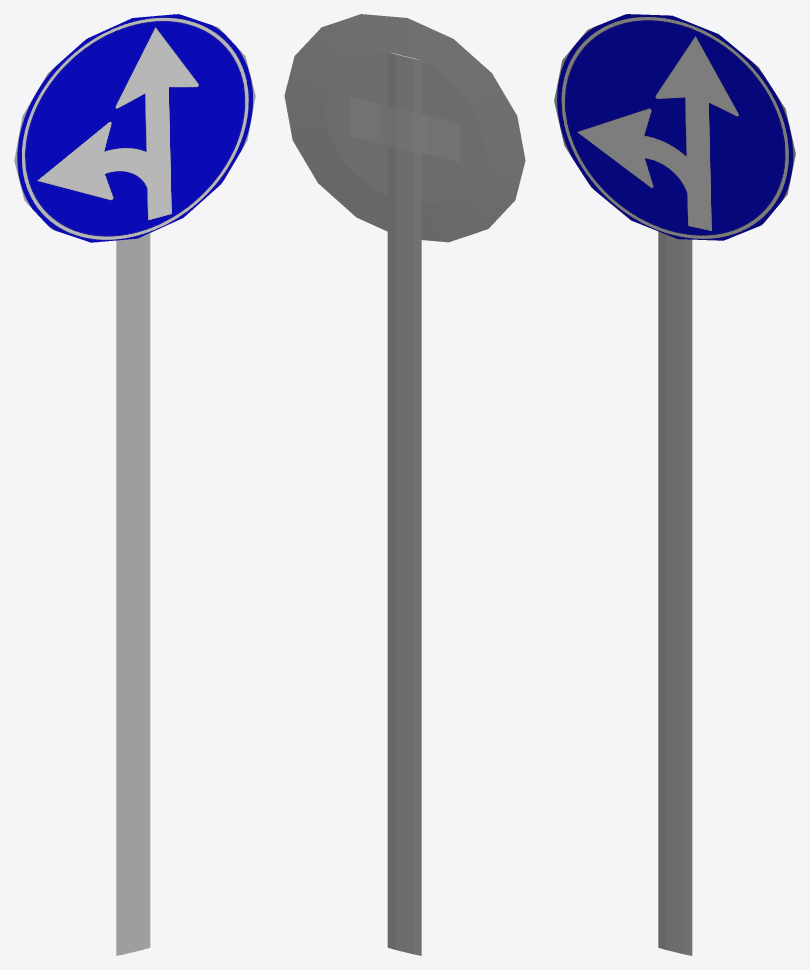
Rendered from ilerisol.dae.
3 views of the same model, side by side, from view 1: azimuth 30°, elevation 25°; view 2: azimuth 150°, elevation 25°; view 3: azimuth 330°, elevation 25° (orthographic).
Parts seen in each view (by area): view 1: Sign_Circle.005; view 2: Sign_Circle.005; view 3: Sign_Circle.005.
Part boxes in pixels (bbox=[...]): Sign_Circle.005: bbox=[14, 14, 255, 955]; Sign_Circle.005: bbox=[284, 14, 525, 955]; Sign_Circle.005: bbox=[554, 14, 795, 955].
Size of the model in its own units: 0.6353 by 0.00621 by 2.35.
Materials: 3 (1 with a texture image).
